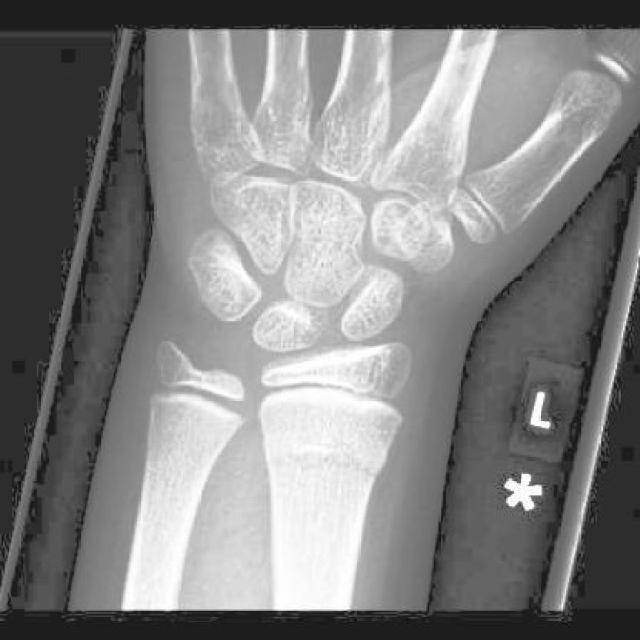Fracture: (260, 422, 391, 496)
